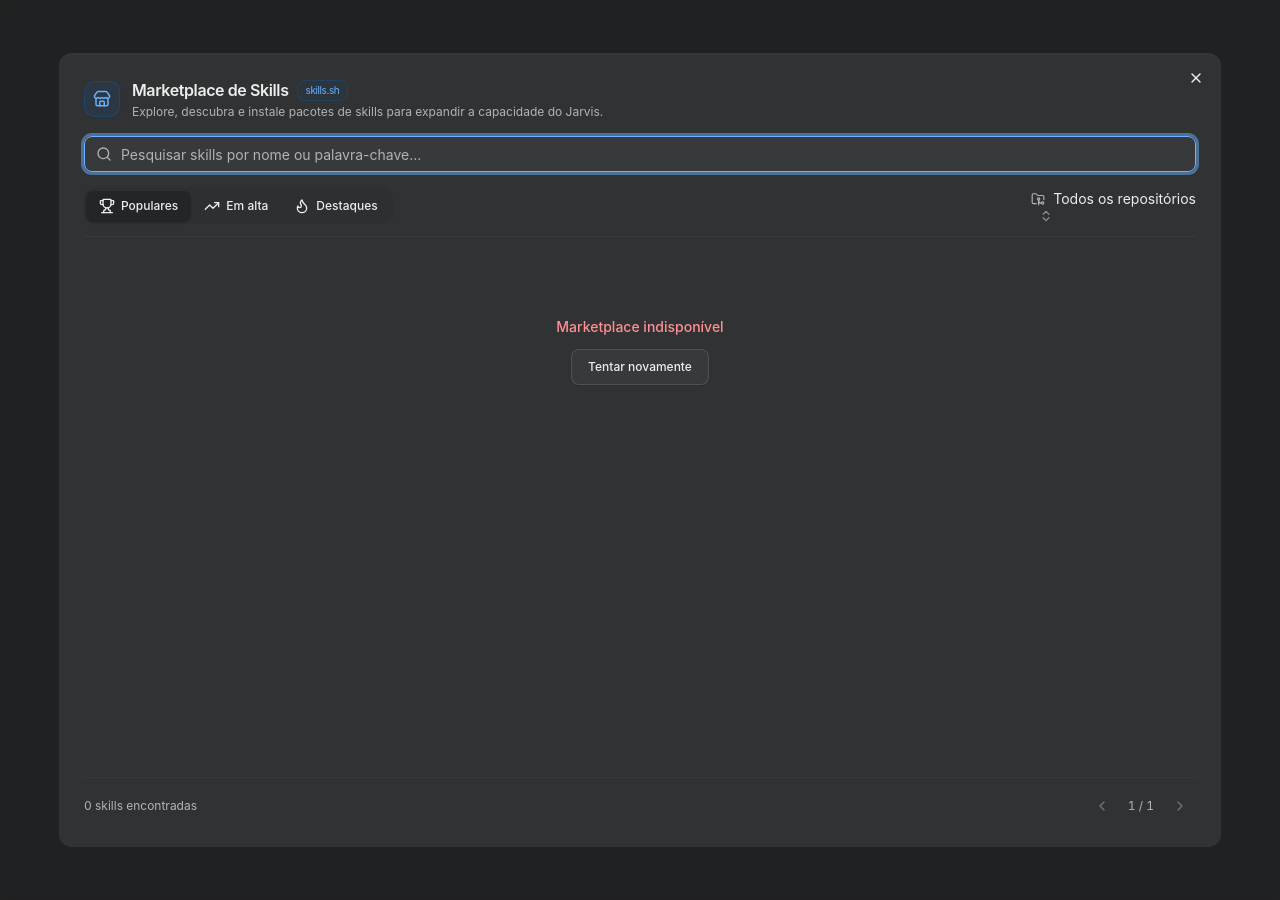
it: SkillsMarketplace › exibe falha do serviço e permite tentar novamente
Expected: the message reads "Marketplace indisponível", [556,318,724,335]
Click the button "Tentar novamente": (640, 367) [571,349,709,385]
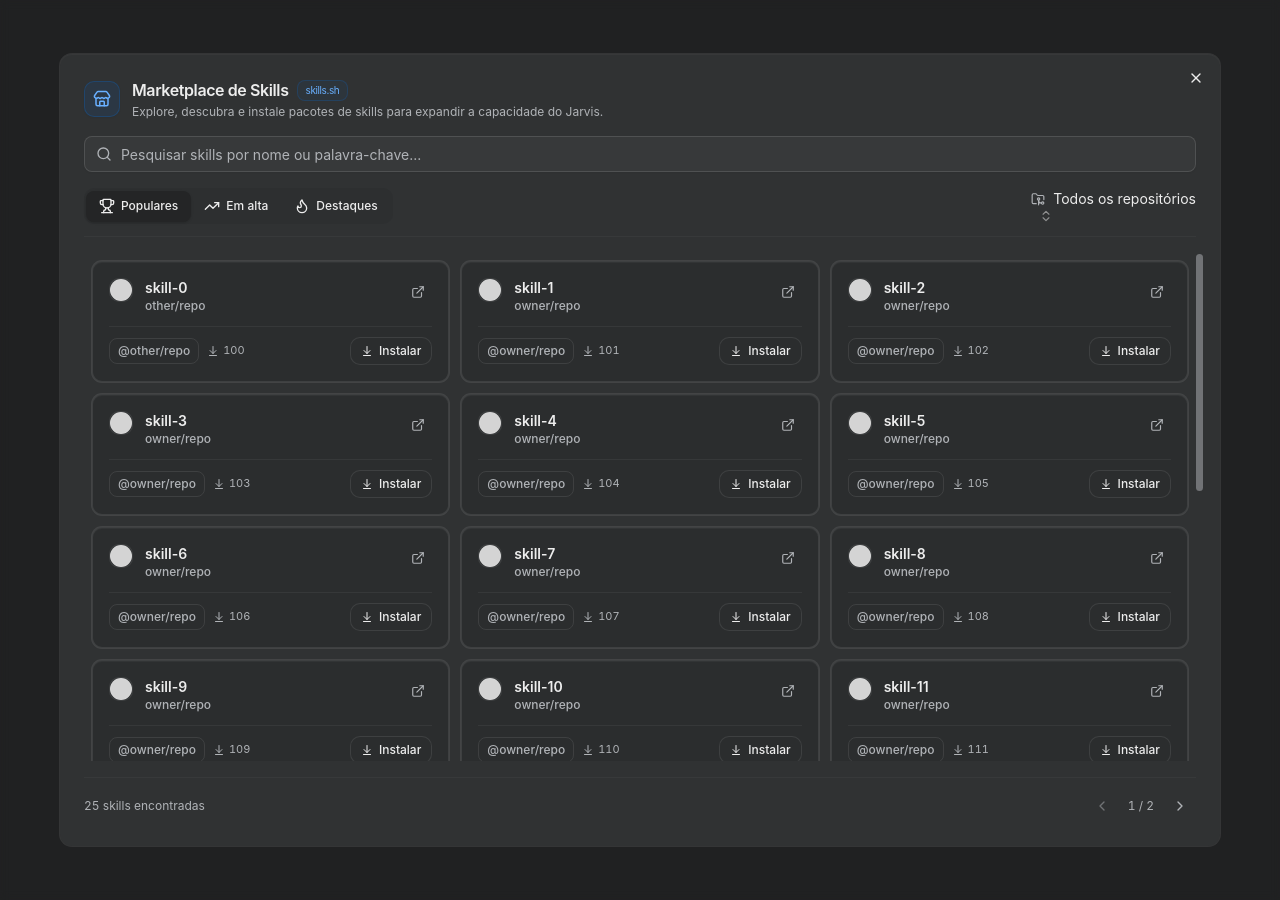
Result: the button with aria-label "Ver skill-0" is shown at [109,278,394,314]
